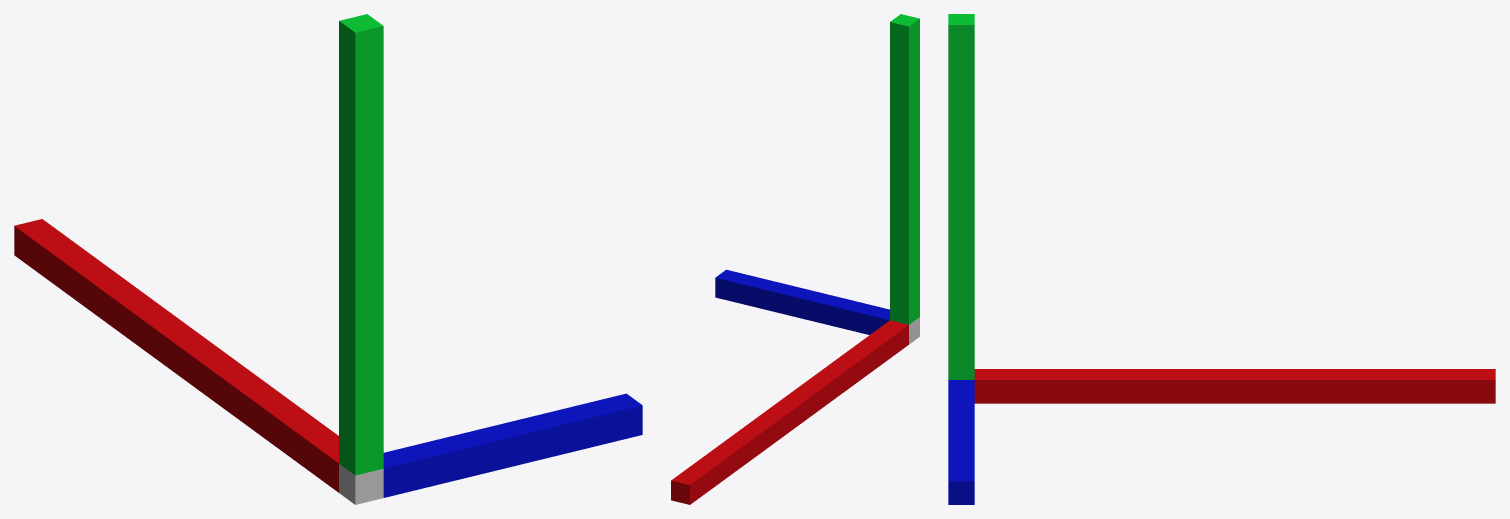
The model's file is axis.fbx.
3 views of the same model, side by side, from view 1: azimuth 30°, elevation 25°; view 2: azimuth 150°, elevation 25°; view 3: azimuth 270°, elevation 25° (orthographic). The views are drawn at different scales.
Parts seen in each view (by area): view 1: Cube.001; view 2: Cube.001; view 3: Cube.001.
Boxes of the visible parts, left/top/right/bottom form: Cube.001: left=14, top=14, right=642, bottom=504; Cube.001: left=671, top=14, right=919, bottom=504; Cube.001: left=948, top=14, right=1495, bottom=504.
Bounding box in the file's own units: 2.04 × 4.2 × 3.21.
